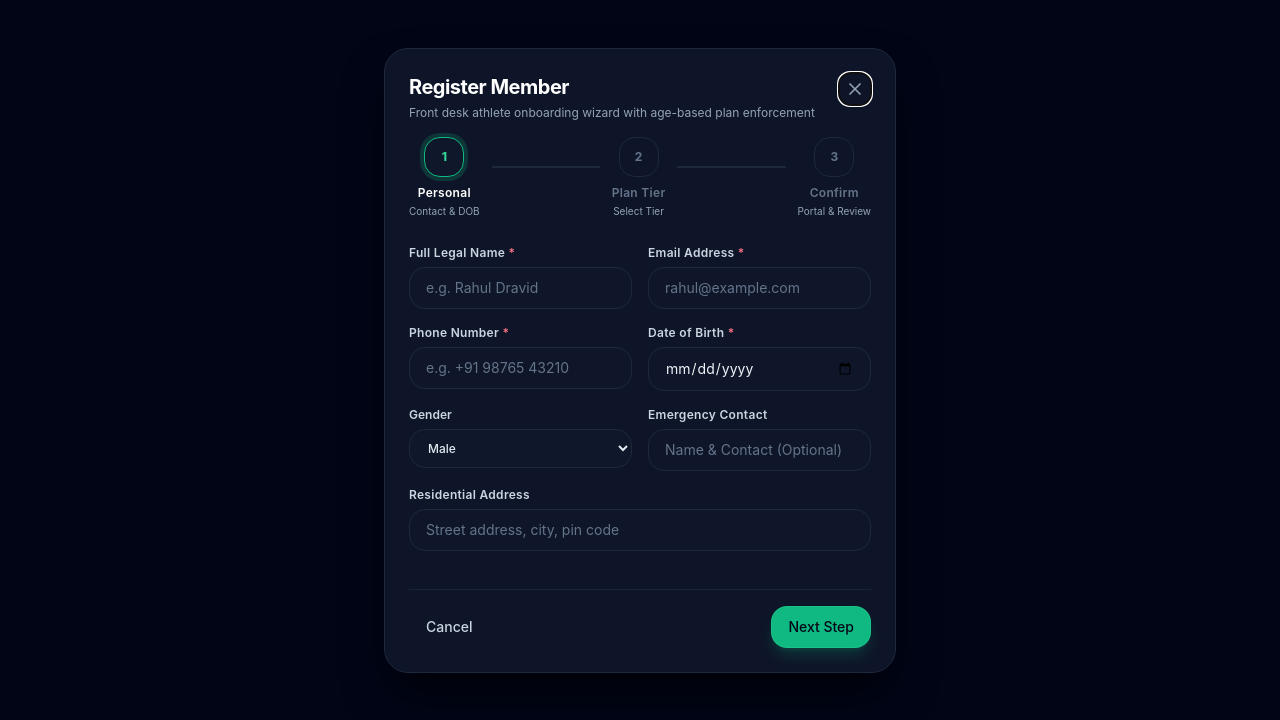
Test case: Members & Plans Module Frontend Suite › Register Member Wizard (Stepper & Age Rules) › detects minor age (<18), forces Junior Cadet and shows Guardian required step
// Fill in Name and Phone
Type "Arjun Cadet" into the field labelled "Full Legal Name *". click: (520, 288)
box: [409,266,632,308]
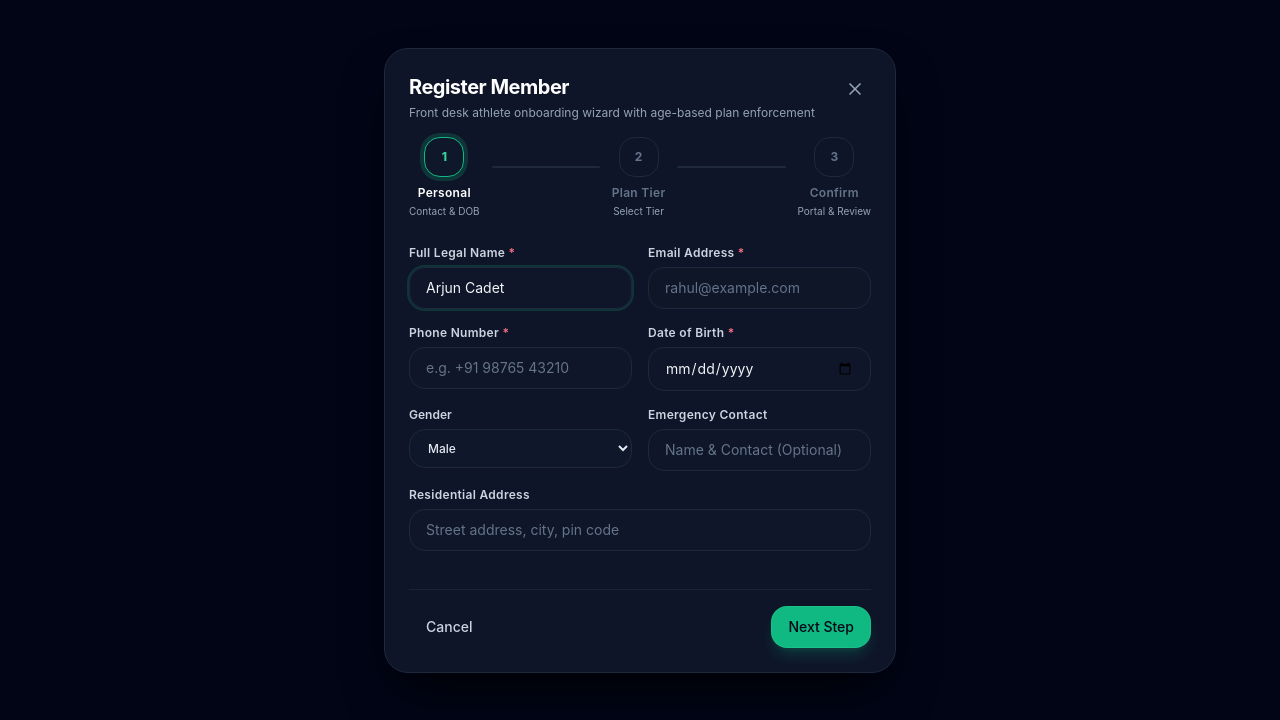
Type "arjun@cadet.com" into the field labelled "Email Address *". click: (760, 288)
box: [648,266,871,308]
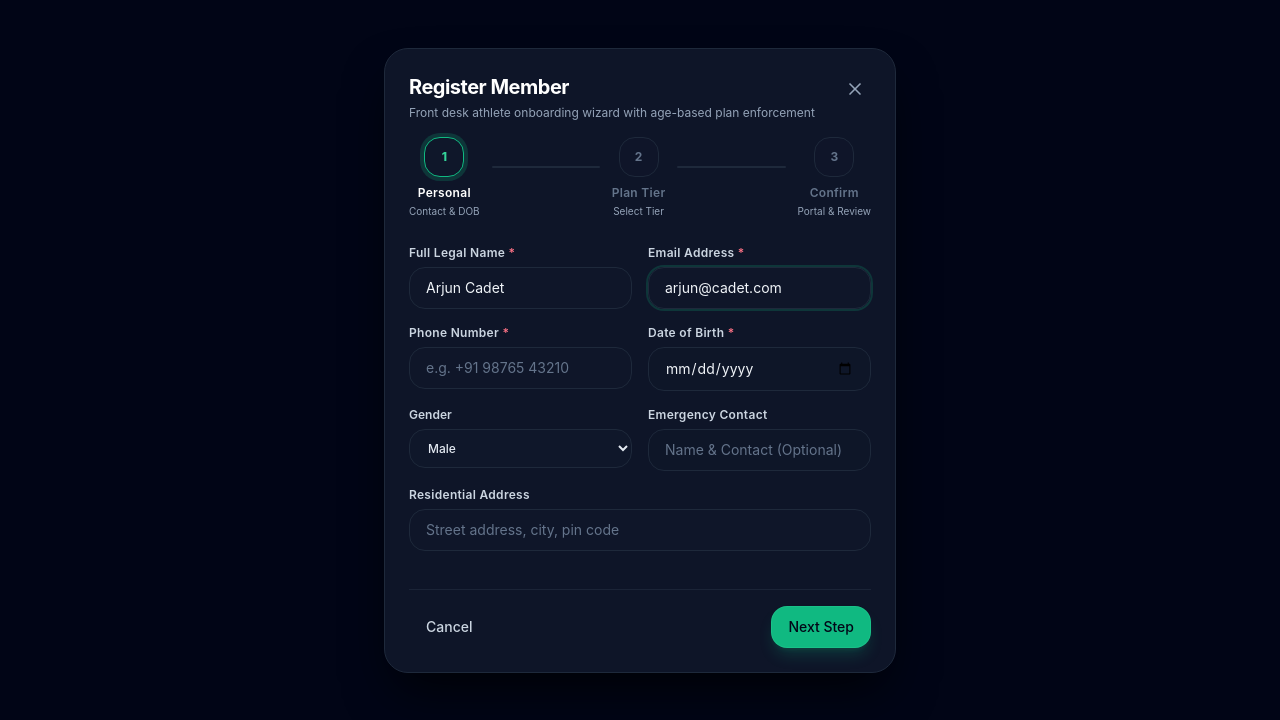
Type "9876543210" into the field labelled "Phone Number *". click: (520, 368)
box: [409,346,632,388]
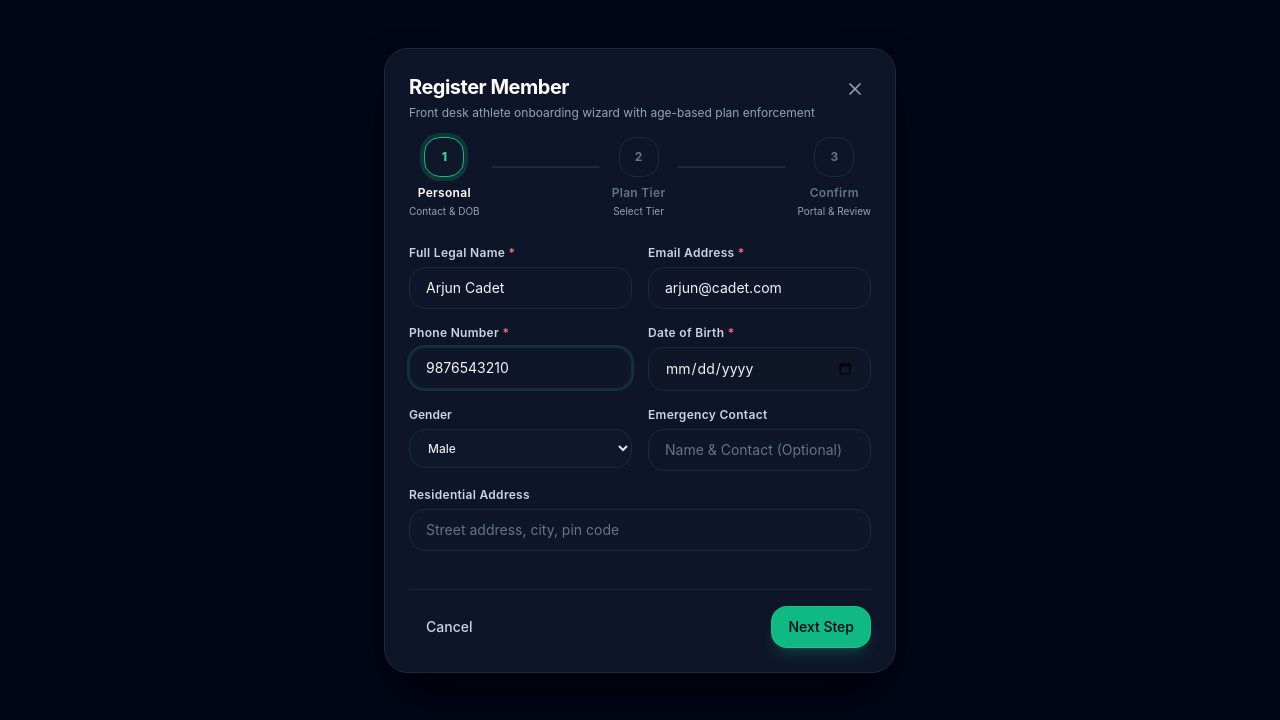
// Set DOB to 12 years old (minor)
Type "2014-05-15" into the date field labelled "Date of Birth *". click: (760, 368)
box: [648,346,871,390]
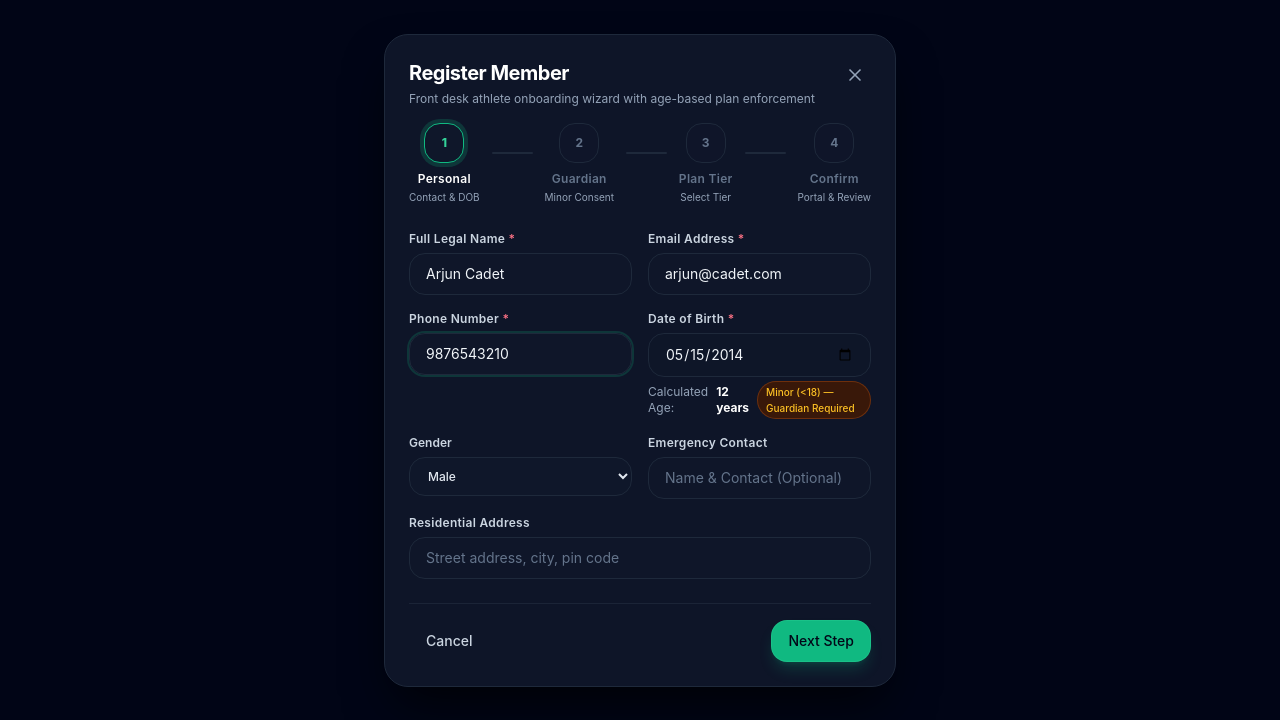
Check: the text "Minor (<18) — Guardian Required" is shown, box [766,384,862,416]
// Proceed to Step 2
Click the button "Next Step". click: (821, 640)
box: [771,620,871,662]
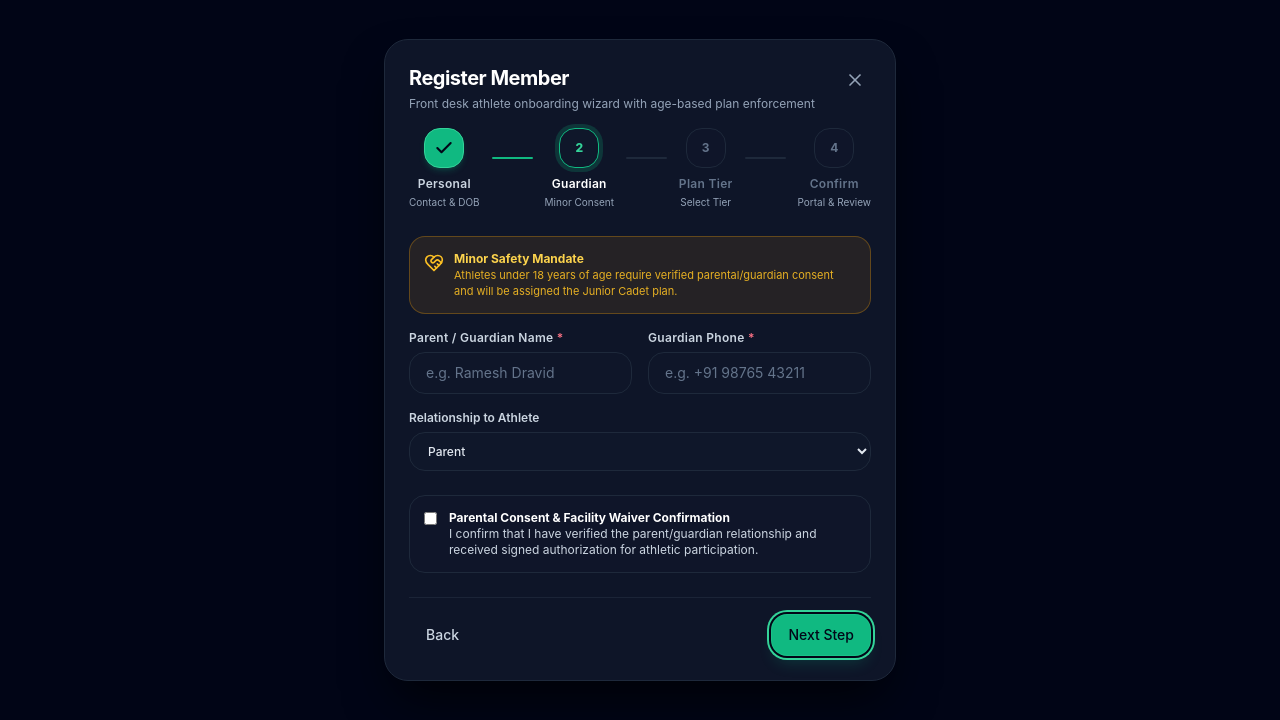
Check: the text "Minor Safety Mandate" is shown, box [454,251,584,266]
Check: the field labelled "Parent / Guardian Name *" is shown, box [409,352,632,394]
